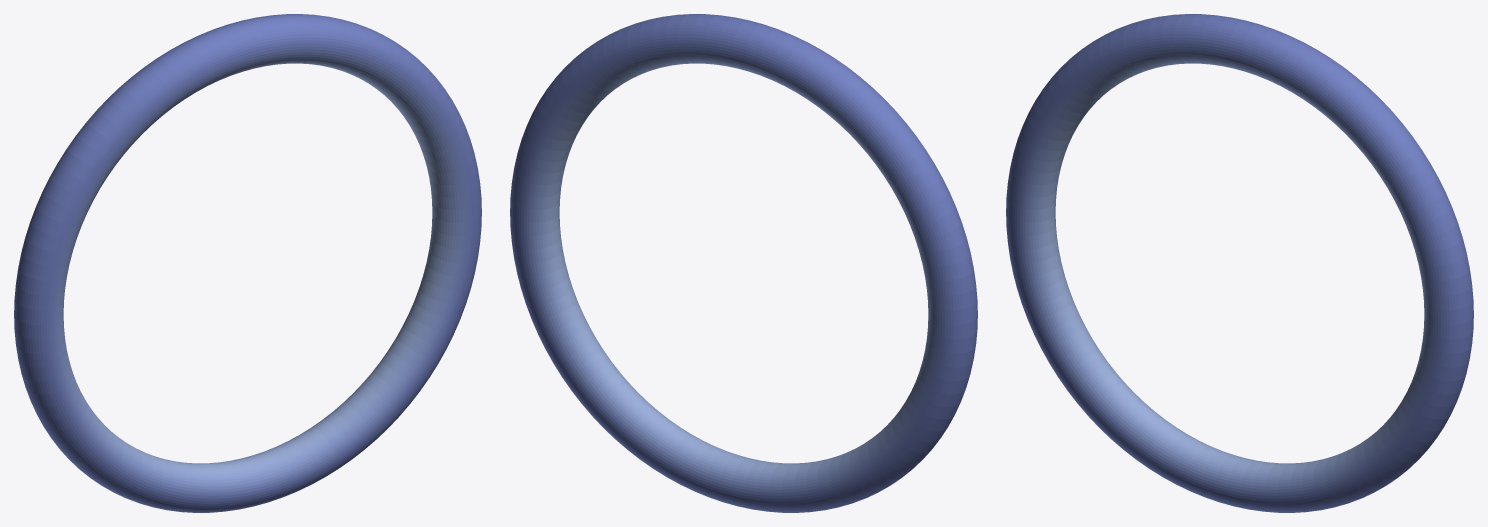
The picture shows the model from 3 angles, left to right: view 1: azimuth 30°, elevation 25°; view 2: azimuth 150°, elevation 25°; view 3: azimuth 330°, elevation 25°; orthographic projection.
Visible parts, largest first — view 1: world; view 2: world; view 3: world.
Part boxes in pixels (<box>): world: <box>14,14,481,512</box>; world: <box>510,14,977,512</box>; world: <box>1006,14,1473,512</box>.
Size of the model in its own units: 27.2 by 27.2 by 2.53.
